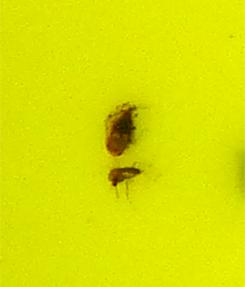Hemiptera: (100, 100, 139, 158)
Nematocera: (102, 164, 145, 187)
